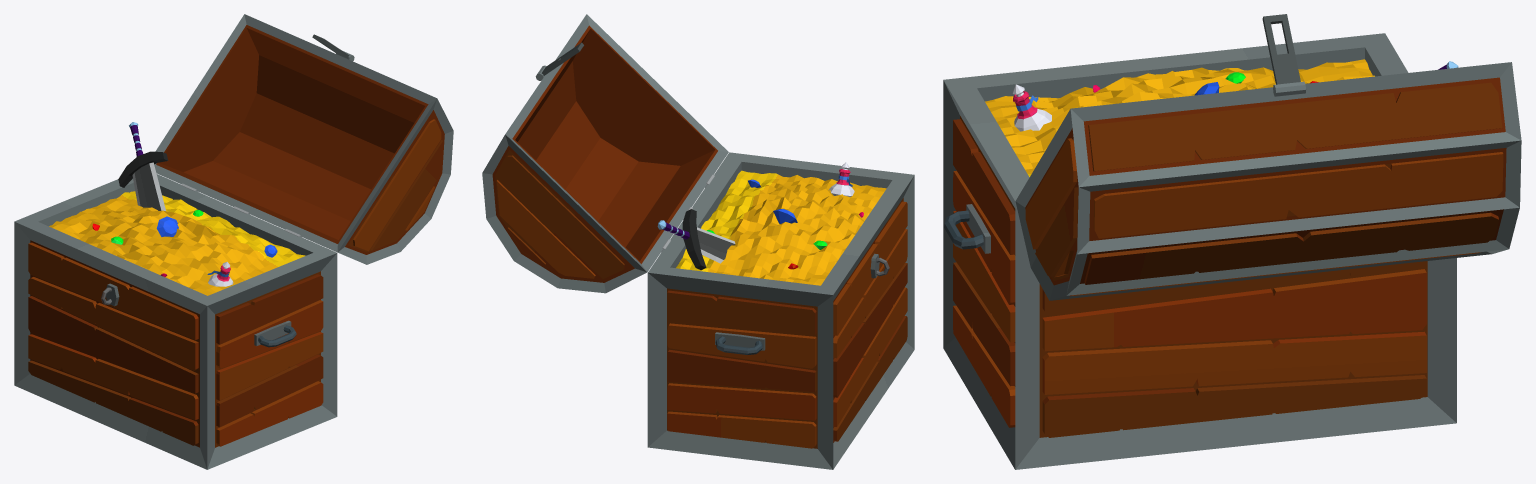
Rendered from cofre_cofre_0.002_lev2.glb.
3 views of the same model, side by side, from view 1: azimuth 30°, elevation 25°; view 2: azimuth 150°, elevation 25°; view 3: azimuth 270°, elevation 25° (orthographic). The views are drawn at different scales.
Visible parts, largest first — view 1: cofre_cofre_0.002_lev2; view 2: cofre_cofre_0.002_lev2; view 3: cofre_cofre_0.002_lev2.
Boxes of the visible parts, left/top/right/bottom form: cofre_cofre_0.002_lev2: left=14, top=14, right=453, bottom=469; cofre_cofre_0.002_lev2: left=482, top=14, right=914, bottom=469; cofre_cofre_0.002_lev2: left=943, top=14, right=1521, bottom=469.
Bounding box in the file's own units: 3.75 × 3.18 × 3.31.
1 material, 1 textured.
